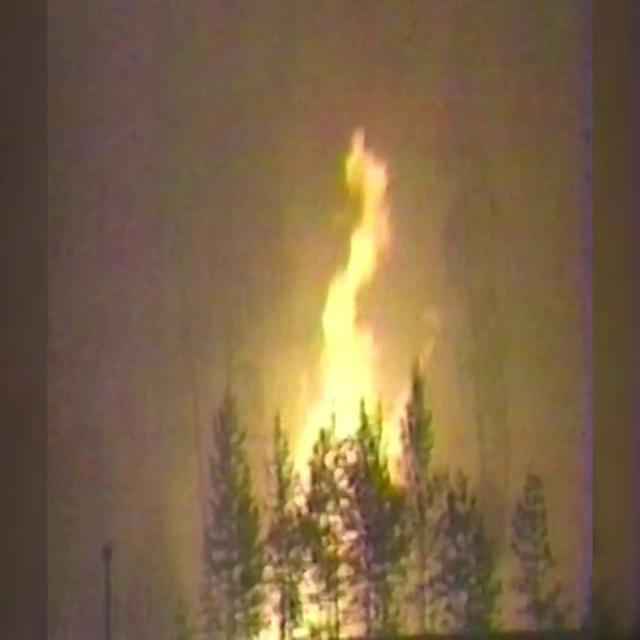Fire: (290, 125, 410, 493)
